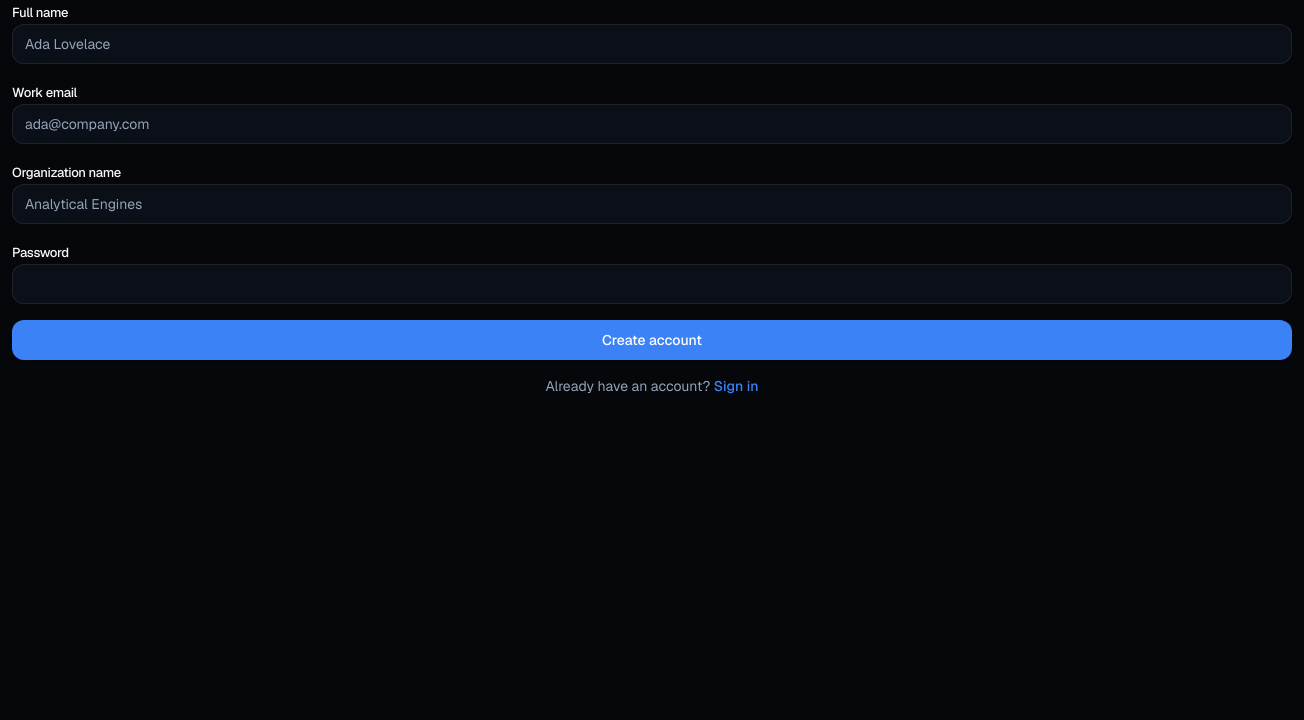
Test: RegisterForm › shows field-level validation errors for empty input
The width and height of the screenshot is (1304, 720).
Click the button "Create account": click(652, 340) [12, 320, 1292, 360]
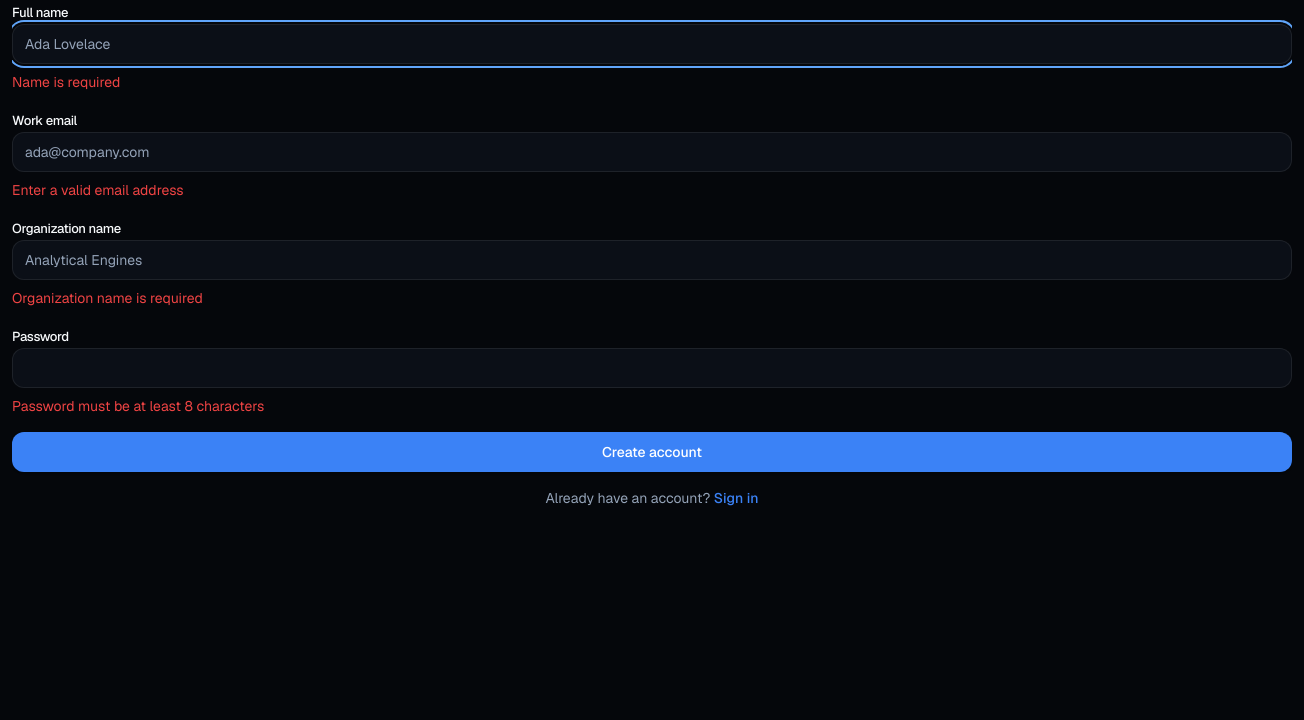
expect the text "Name is required" is shown: met, box [12, 73, 120, 91]
expect the text "Organization name is required" is shown: met, box [12, 289, 203, 307]
